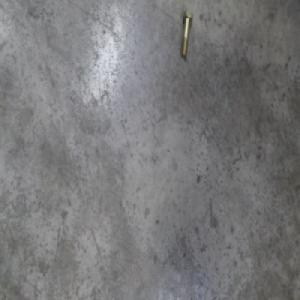Bolt: (180, 11, 194, 58)
